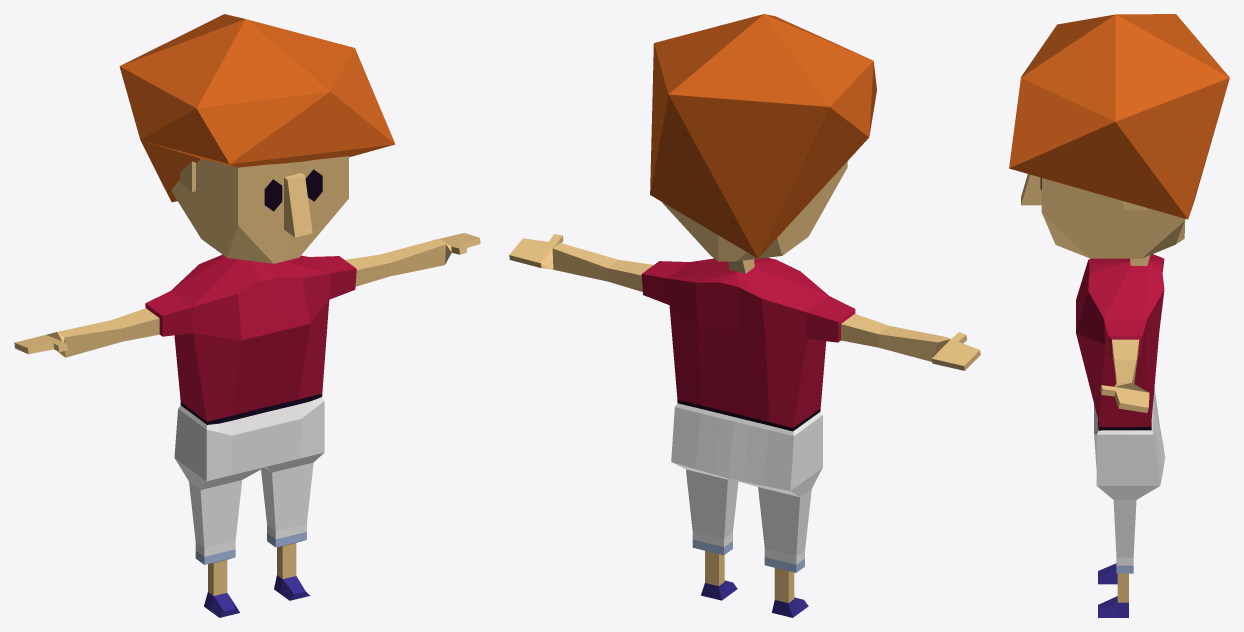
File: pinatti.gltf
3 renders of one model, left to right at view 1: azimuth 30°, elevation 25°; view 2: azimuth 150°, elevation 25°; view 3: azimuth 270°, elevation 25°, orthographic. The views are drawn at different scales.
Parts seen in each view (by area): view 1: pininha-static; view 2: pininha-static; view 3: pininha-static.
Boxes of the visible parts, left/top/right/bottom form: pininha-static: left=14, top=14, right=480, bottom=617; pininha-static: left=509, top=14, right=980, bottom=617; pininha-static: left=1009, top=14, right=1229, bottom=617.
Bounding box in the file's own units: 0.8253 × 1.02 × 0.3536.
Materials: 1 (1 with a texture image).
